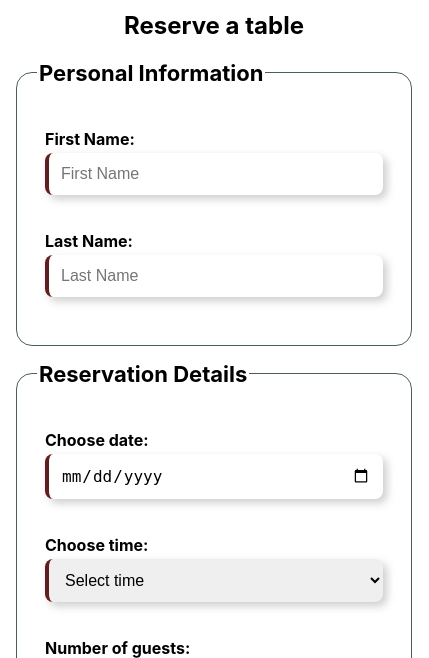
Test: Error fields › show error for short last name
In the field labelled "Last Name:": (214, 276) [45, 255, 383, 297], type "S"
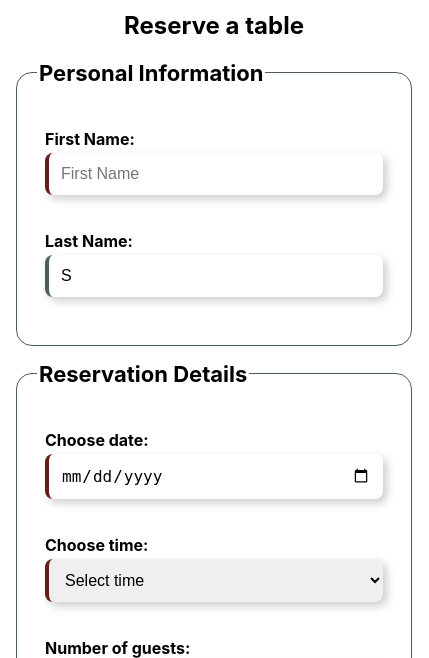
Leave the field labelled "Last Name:", box [45, 255, 383, 297]
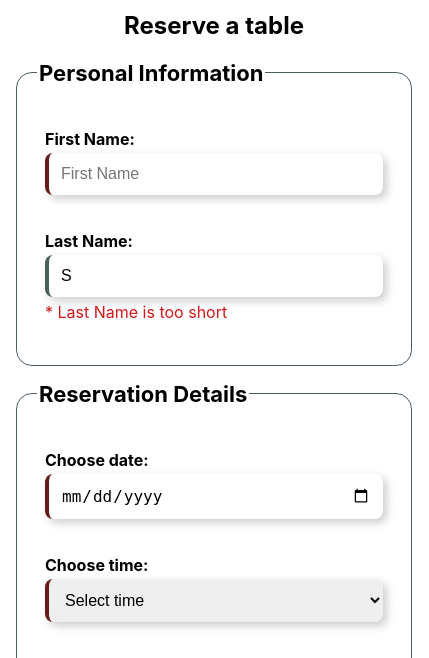
Result: the text "* Last Name is too short" is shown at [45, 302, 227, 322]
